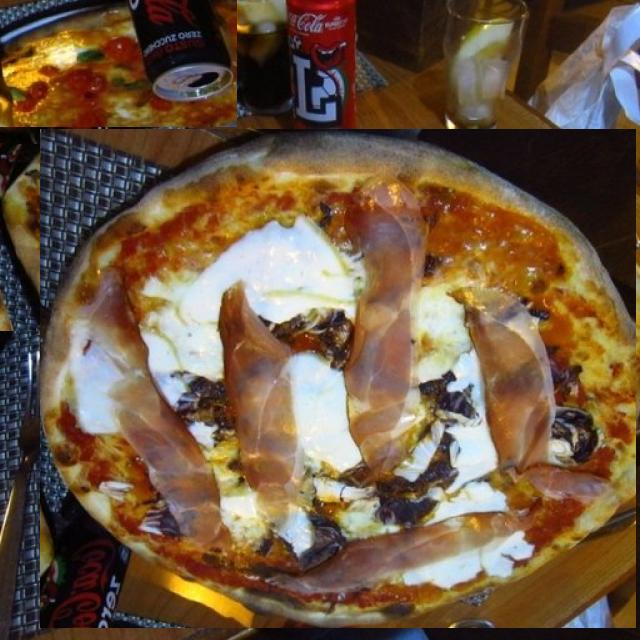basil: (89, 38, 128, 48), (134, 64, 160, 78)
pizza: (41, 129, 636, 628), (0, 0, 237, 127), (0, 144, 56, 331)
